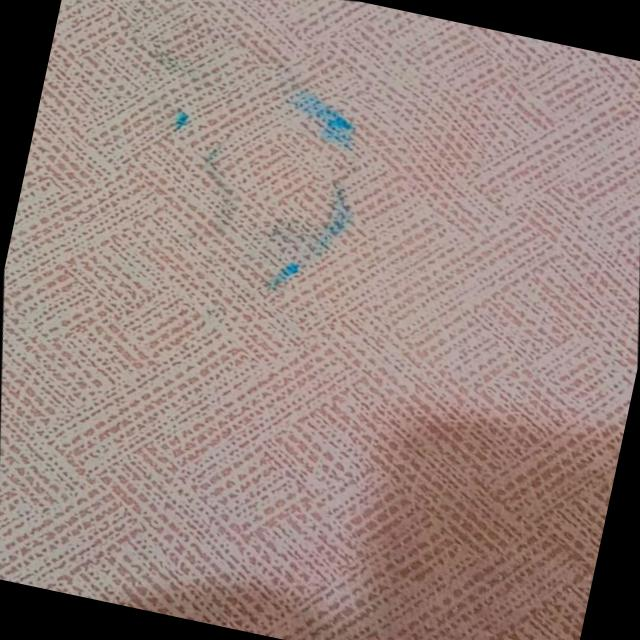stain: (110, 41, 408, 316)
